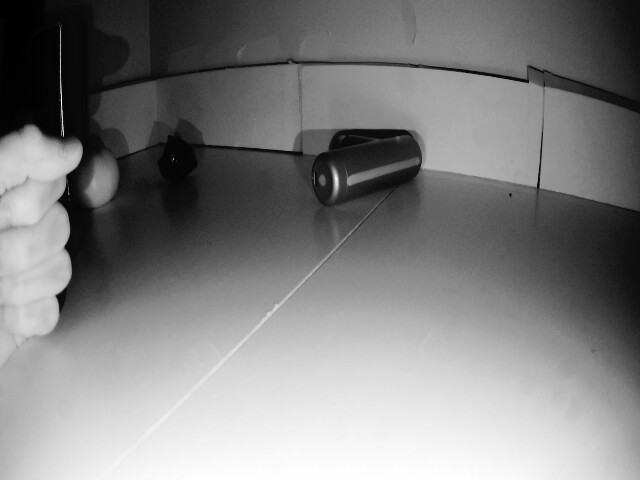black: (157, 132, 194, 176)
